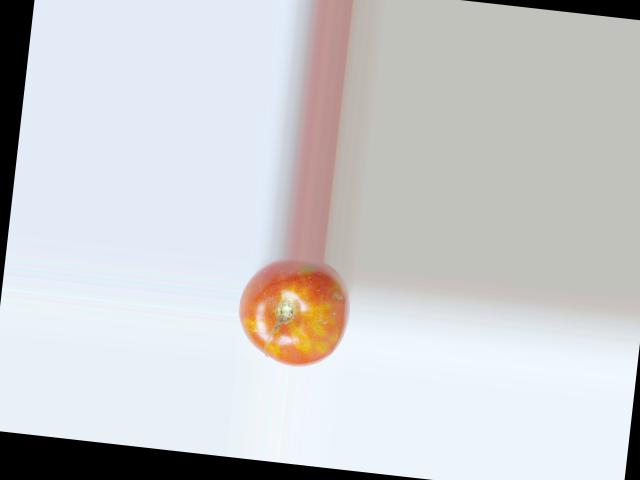tomato: (233, 253, 354, 371)
